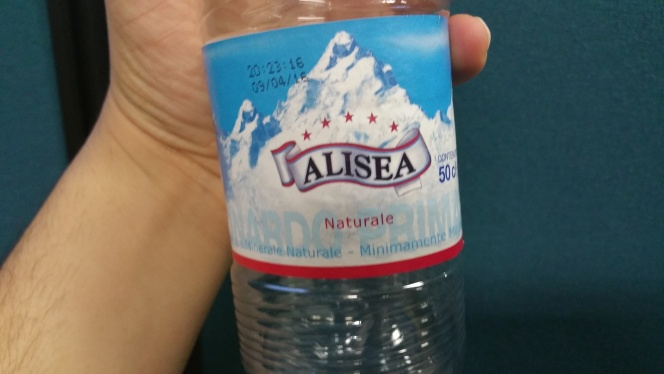bottle: (193, 1, 477, 374)
